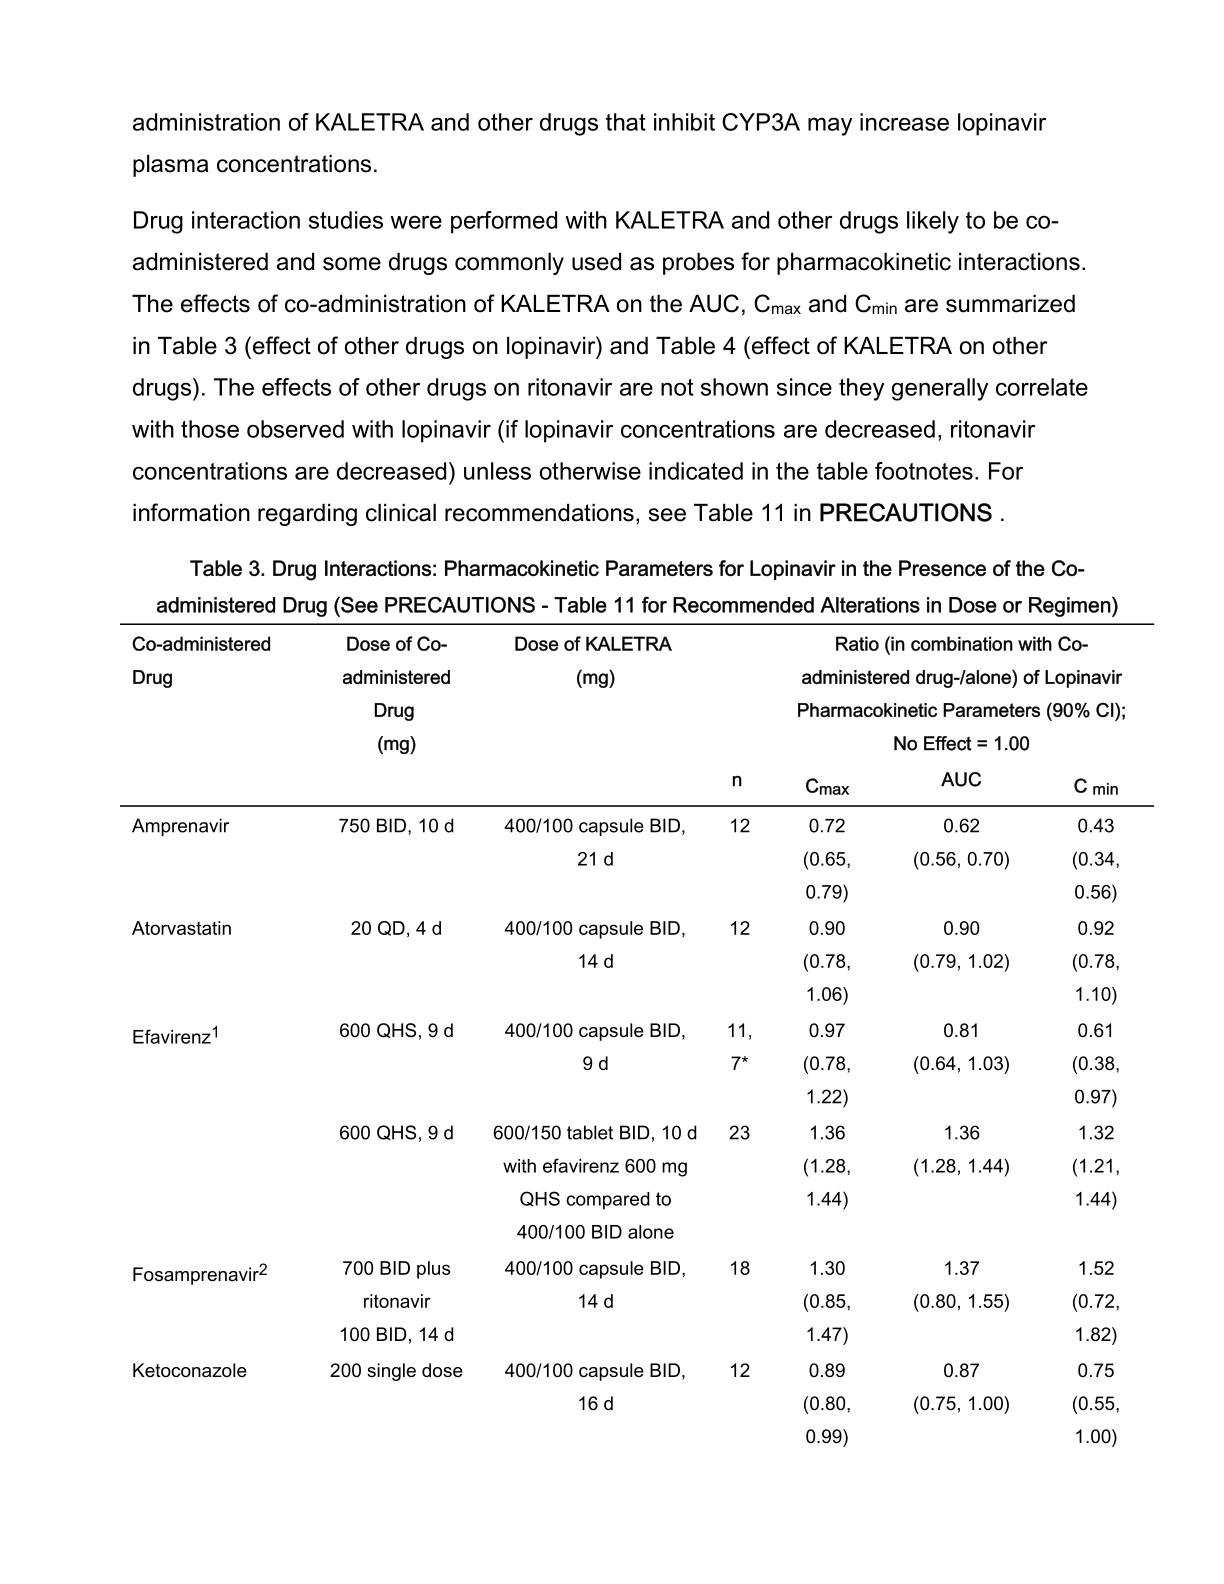partial_lined_merged_cells: (117, 618, 1156, 1450)
